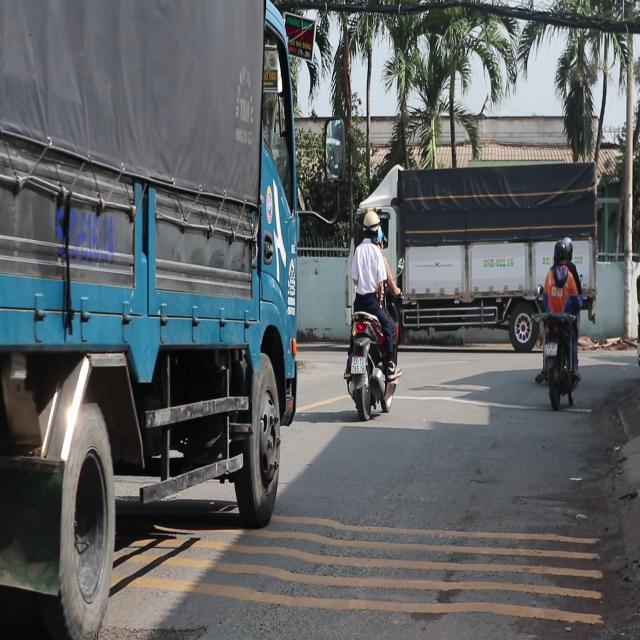helmet: (362, 209, 379, 241)
licenseplate: (341, 205, 401, 418)
nohelmet: (351, 356, 365, 372)
